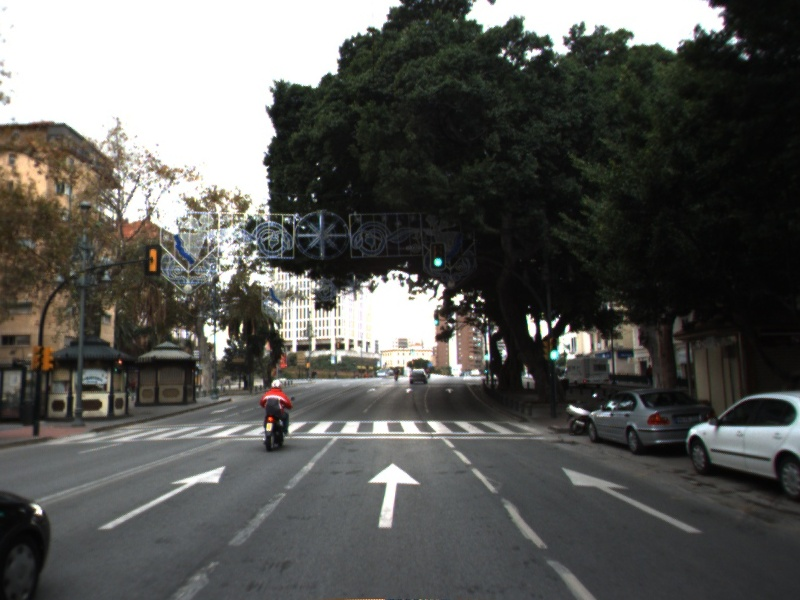STRAIGHT: (559, 464, 707, 535), (95, 463, 228, 532), (365, 461, 423, 530)
